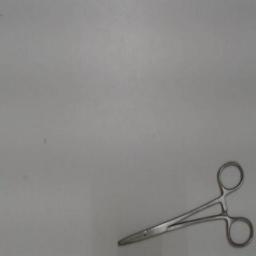Mayo Needle Holder: (114, 154, 256, 254)
